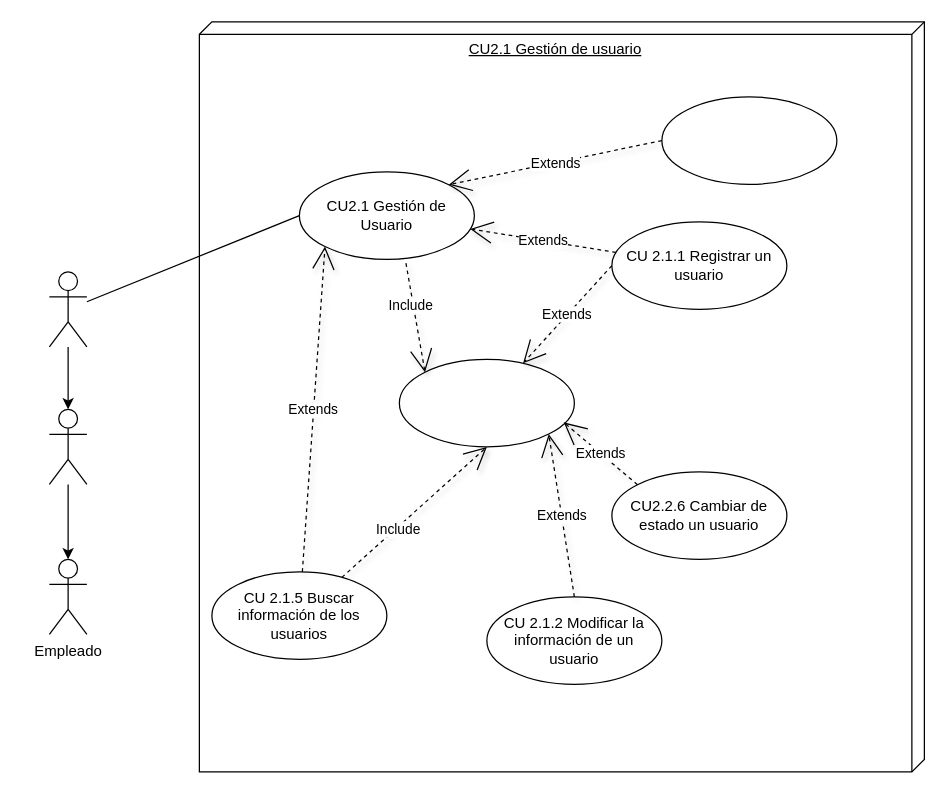
Image size: 946x794. Some labels were removed from this diagram. Each missing label, with the centre of its shape:
Administrador: the point at 67,309
CU 1.1.9 Descargar registros: the point at 749,140
CU 2.1.4 Visualizar la lista de los usuarios: the point at 486,402
Joven: the point at 67,446
